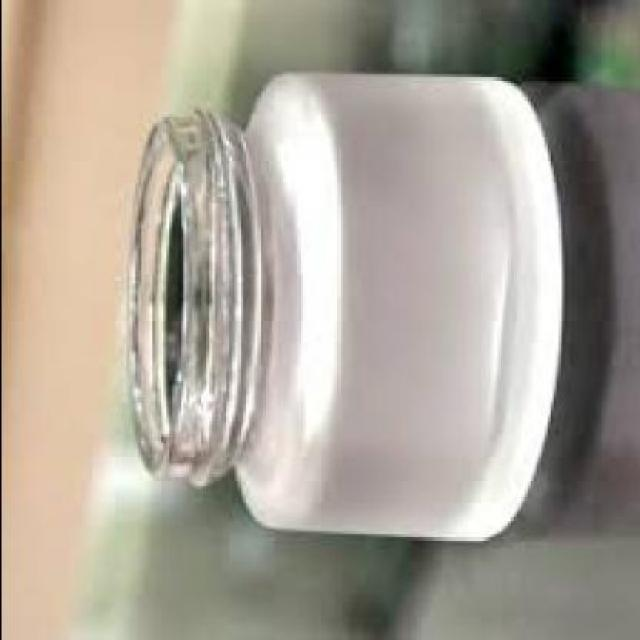GLASS: (122, 78, 558, 542)
